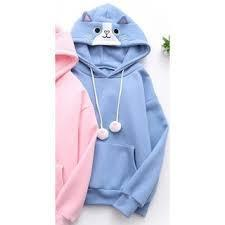sweater: (67, 4, 165, 218)
